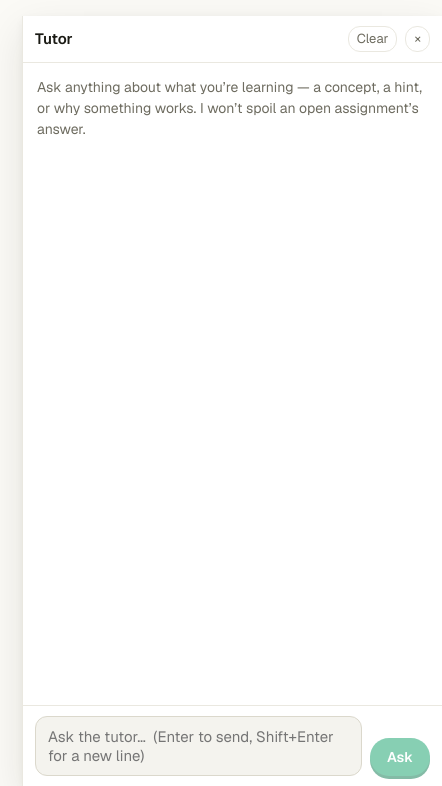
Test: <TutorPanel> › opens, sends a question with the current scope, and shows the answer
The width and height of the screenshot is (442, 786).
Step 1. Type "why ser vs estar?" into the text box labelled "Ask the tutor" → (198, 746), box [35, 716, 362, 776]
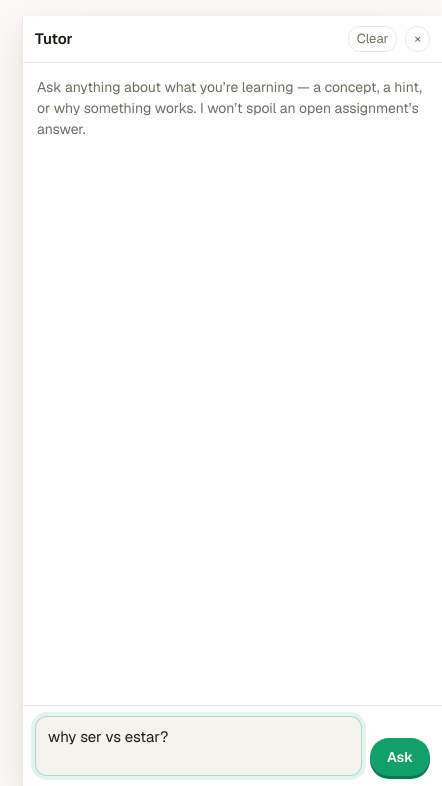
Step 2. Click the button "Ask" → (400, 757), box [370, 738, 430, 776]
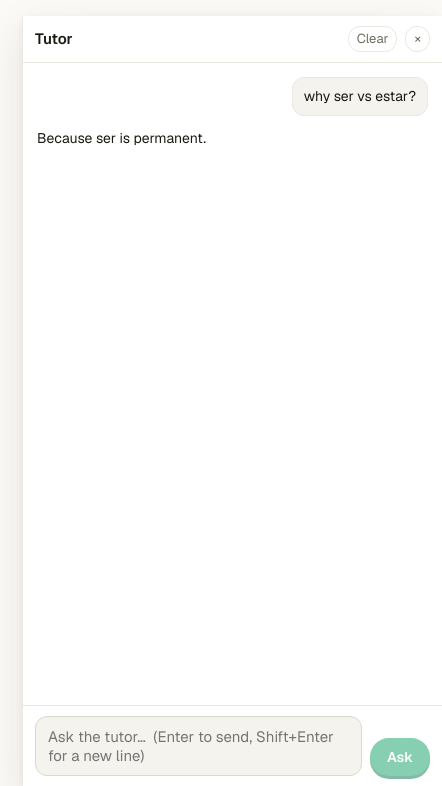
Expected: the text "why ser vs estar?" is shown, [304, 86, 416, 107]
Expected: the text "Because ser is permanent." is shown, [37, 129, 206, 147]
